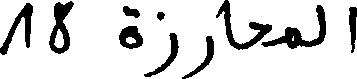X: (147, 7, 176, 78), (0, 0, 31, 59), (183, 31, 212, 78), (50, 0, 72, 58), (120, 1, 140, 53), (251, 17, 270, 51), (223, 0, 233, 51), (316, 0, 325, 49), (349, 2, 356, 57), (286, 22, 298, 53)
